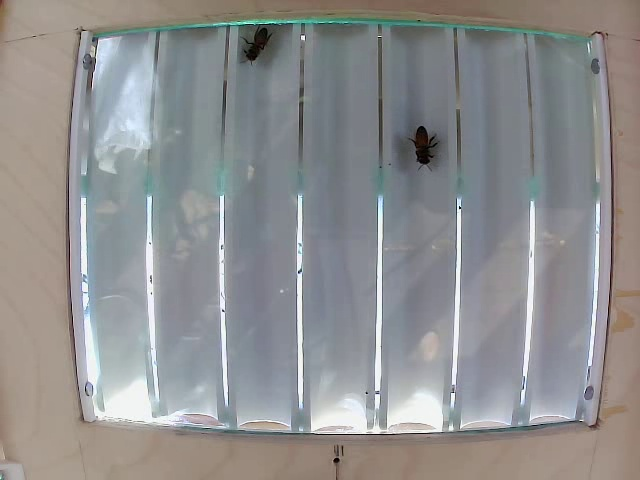bee: (402, 114, 443, 177), (233, 21, 278, 73)
